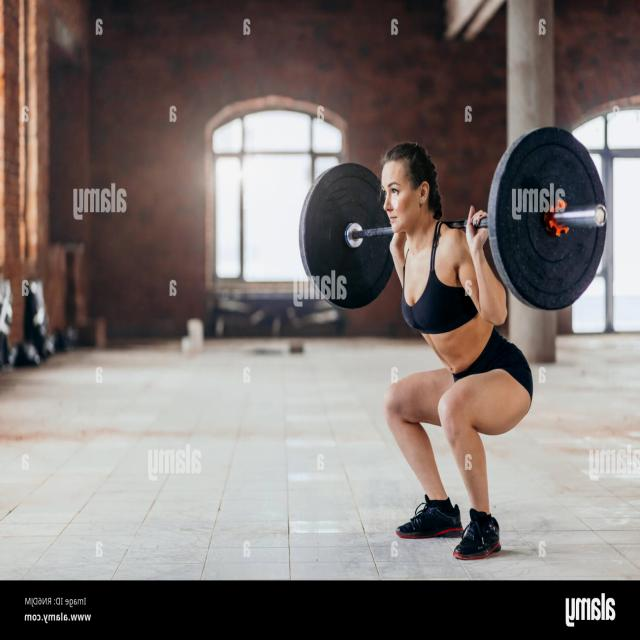barbell_plate_side: (299, 126, 376, 312), (531, 126, 608, 312)
